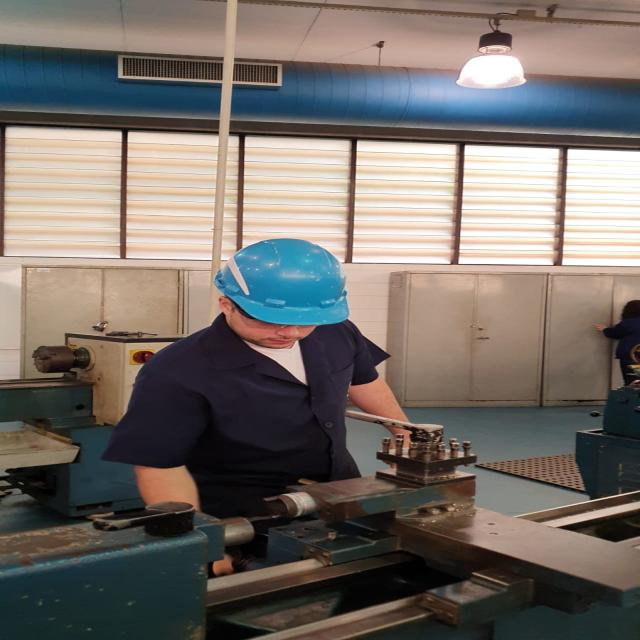oculos-epi: (227, 298, 288, 329)
